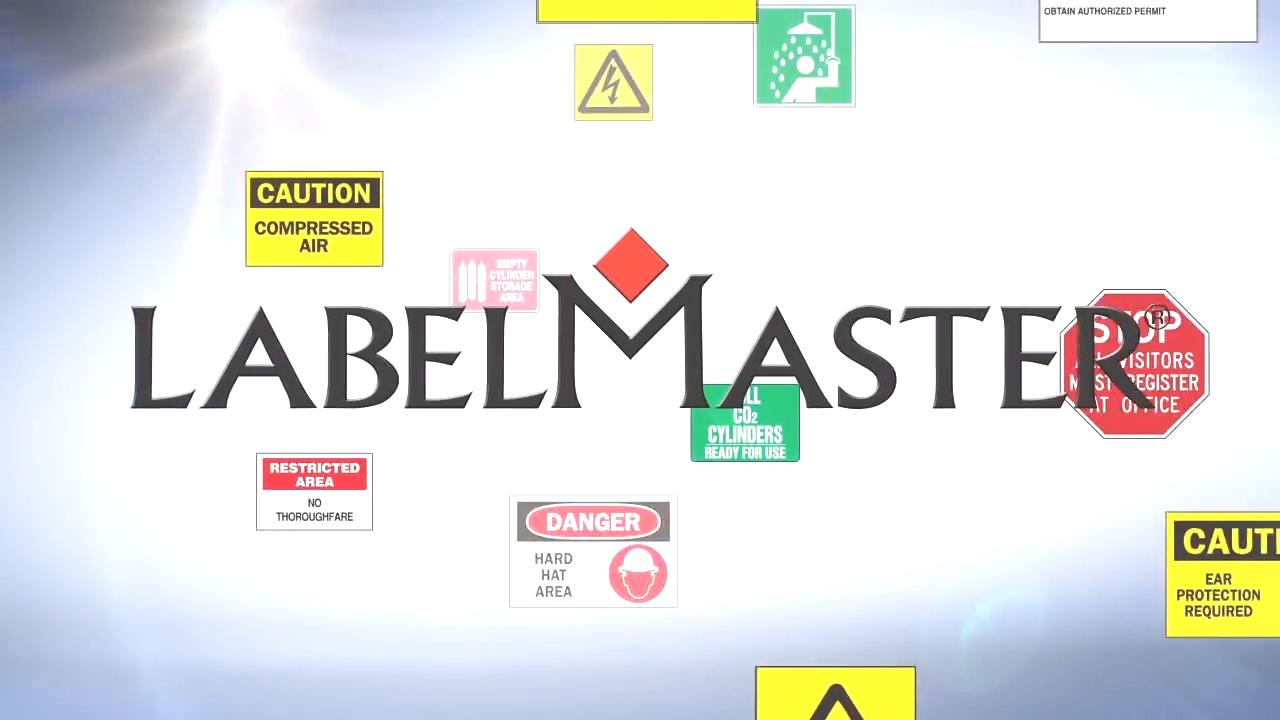safety_signage: (505, 493, 681, 614)
